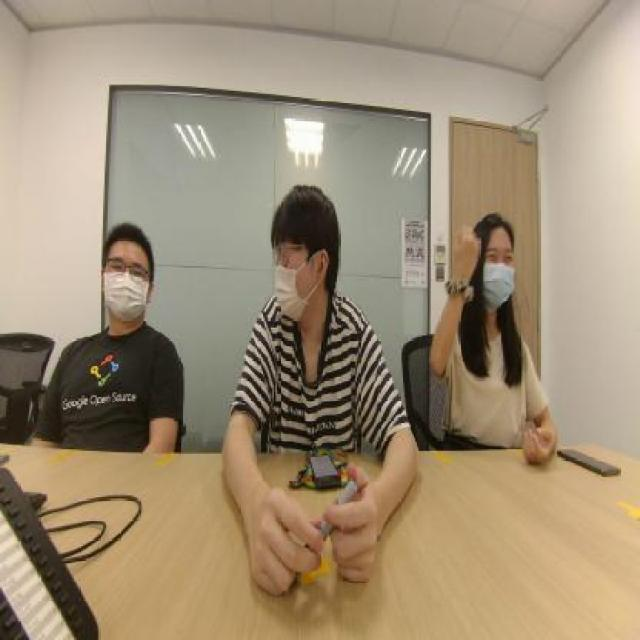Person: (220, 168, 375, 464), (55, 198, 182, 458), (430, 184, 545, 441)
